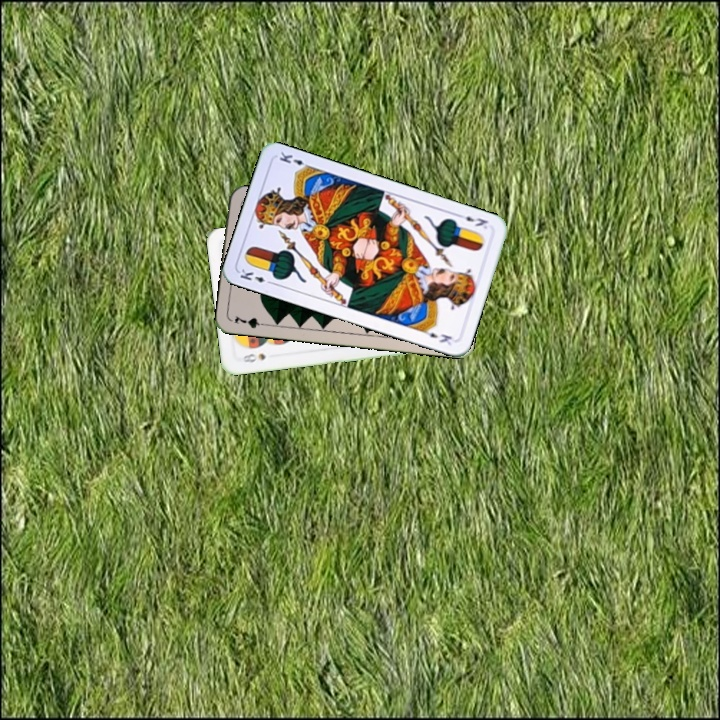EK: (236, 265, 276, 287), (454, 210, 491, 231)
G7: (230, 311, 270, 331)
S8: (239, 349, 268, 365)
